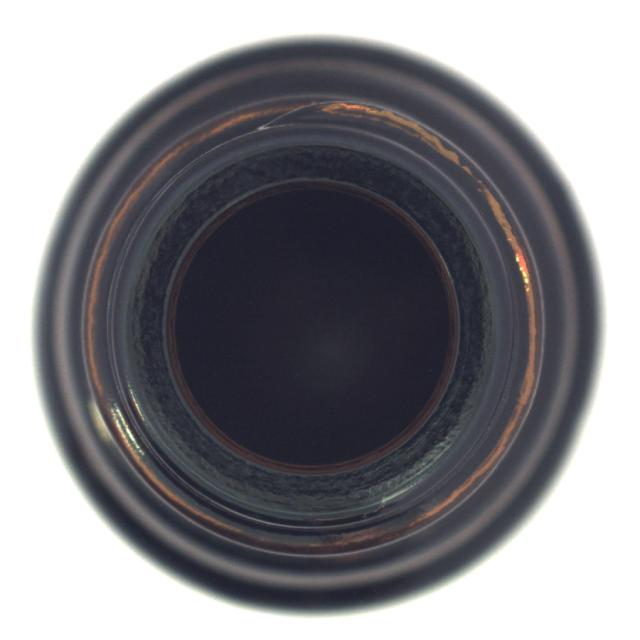bottle-good: (32, 35, 592, 611)
